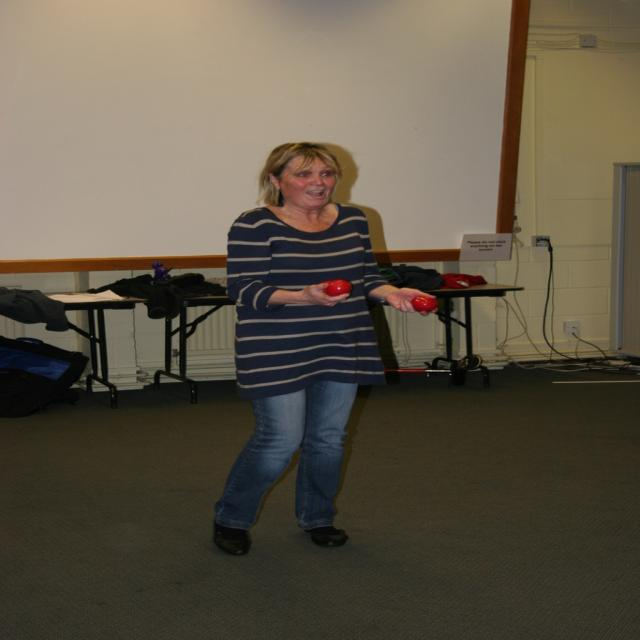desk: (126, 280, 523, 398)
person: (215, 141, 431, 557)
